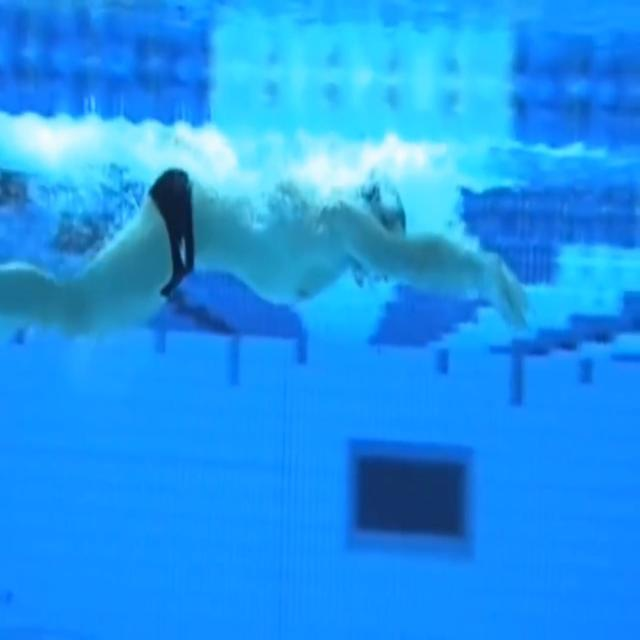Swimming: (0, 163, 534, 344)
